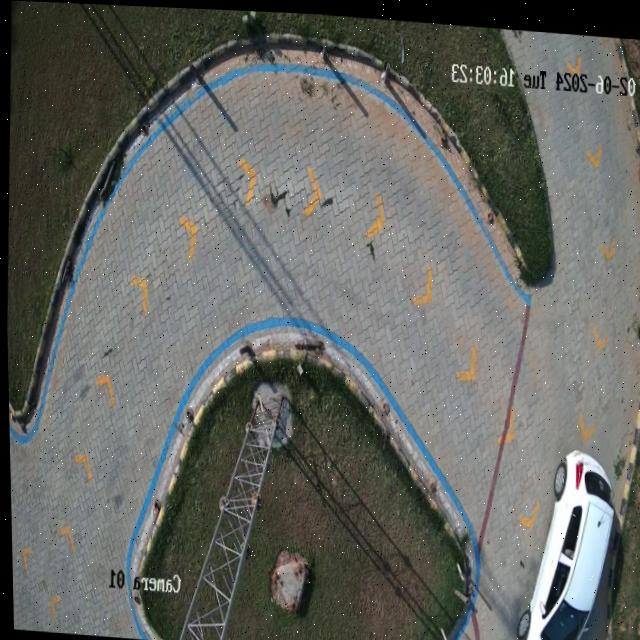car: (519, 447, 614, 640)
